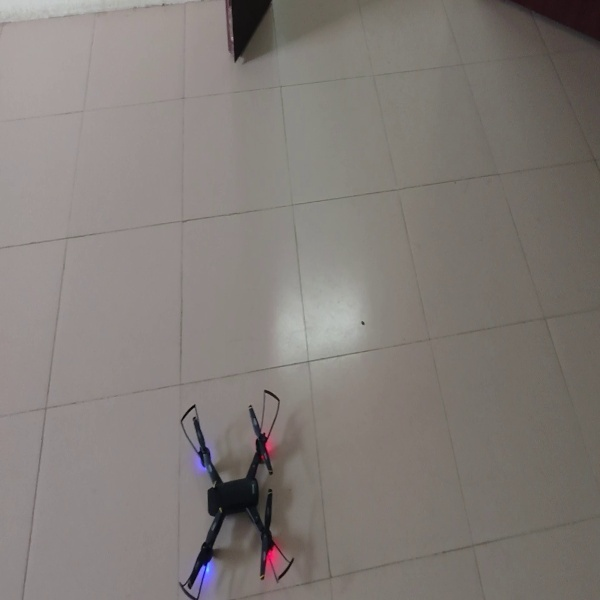drone: (174, 385, 303, 598)
